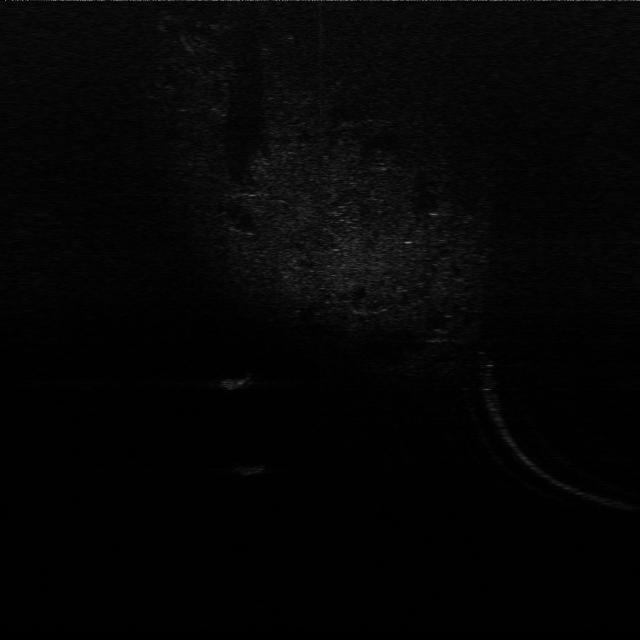cube: (232, 458, 272, 480)
square cage: (211, 367, 257, 394)
